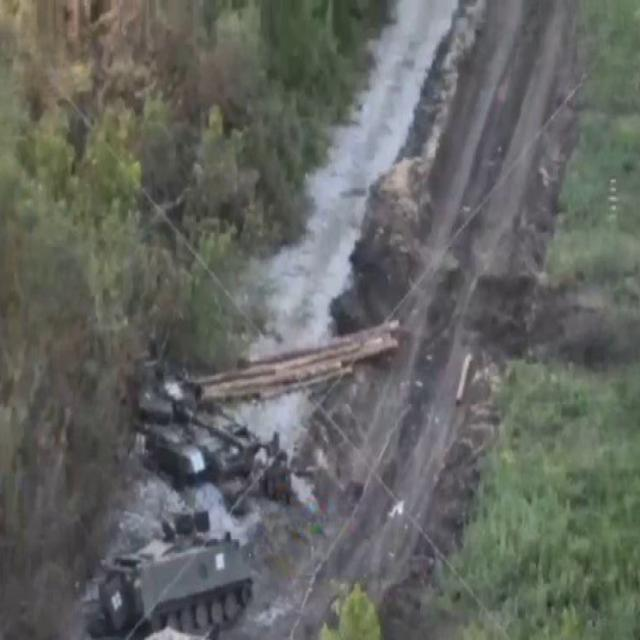APC: (107, 510, 254, 637)
MBT: (123, 353, 265, 486)
